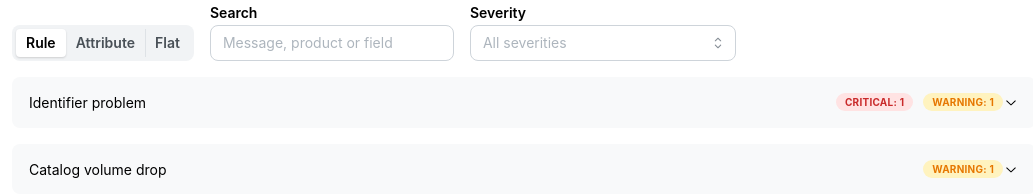
Test case: FindingsExplorer › shows an empty state when filters match nothing
Type "zzzz-no-match" into the field labelled "Search" at coordinates (332, 43), box [210,25,454,61]
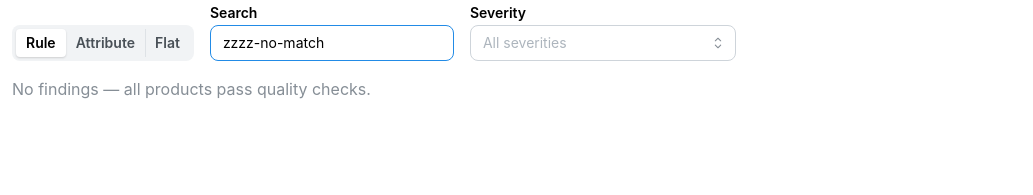
Result: the text "No findings — all products pass quality checks." is shown at [12,79,371,99]
